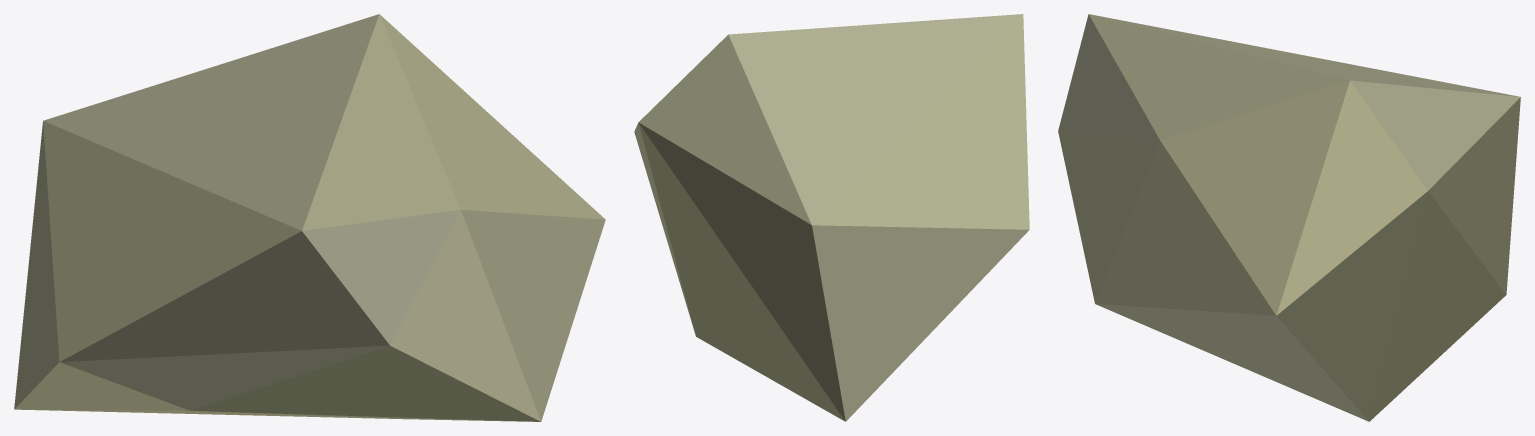
The model's file is Boulder02.glb.
3 renders of one model, left to right at view 1: azimuth 30°, elevation 25°; view 2: azimuth 150°, elevation 25°; view 3: azimuth 270°, elevation 25°, orthographic. The views are drawn at different scales.
Visible parts, largest first — view 1: Boulder02; view 2: Boulder02; view 3: Boulder02.
Part boxes in pixels (x1,y1,x2,y2): Boulder02: (14,14,605,421); Boulder02: (634,14,1029,421); Boulder02: (1058,14,1520,421).
Size of the model in its own units: 0.8557 by 0.6275 by 0.8002.
